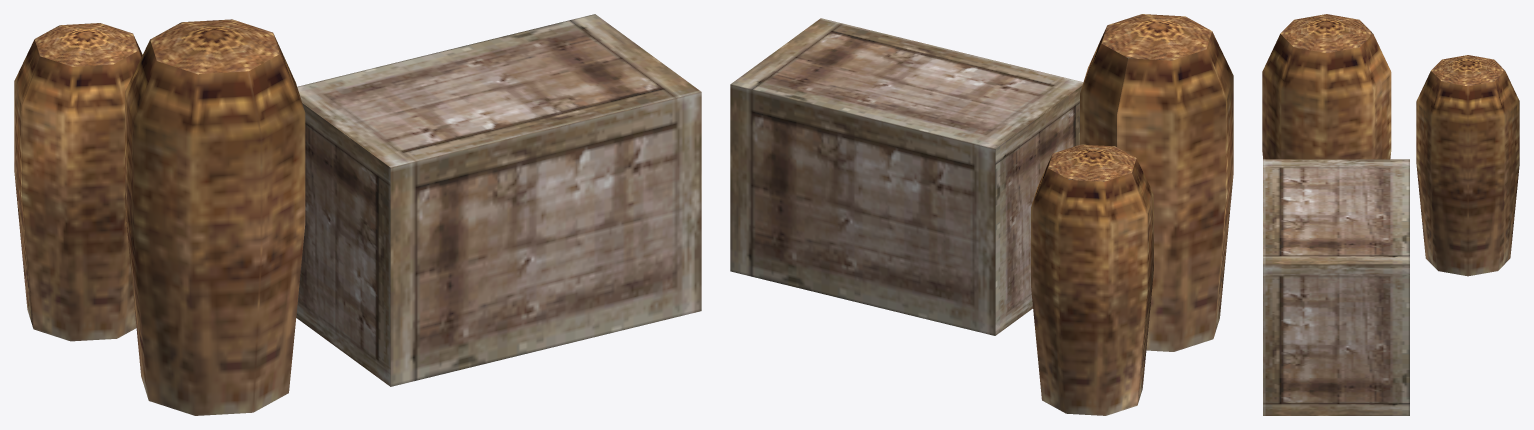
File: MogFill1.glb
3 renders of one model, left to right at view 1: azimuth 30°, elevation 25°; view 2: azimuth 150°, elevation 25°; view 3: azimuth 270°, elevation 25°, orthographic. The views are drawn at different scales.
Visible parts, largest first — view 1: _MogFill1; view 2: _MogFill1; view 3: _MogFill1.
Part boxes in pixels (left/top/right/bottom): _MogFill1: left=14, top=14, right=701, bottom=415; _MogFill1: left=730, top=14, right=1233, bottom=415; _MogFill1: left=1262, top=14, right=1519, bottom=415.
Size of the model in its own units: 2.61 by 1.66 by 1.58.
1 material, 1 textured.
